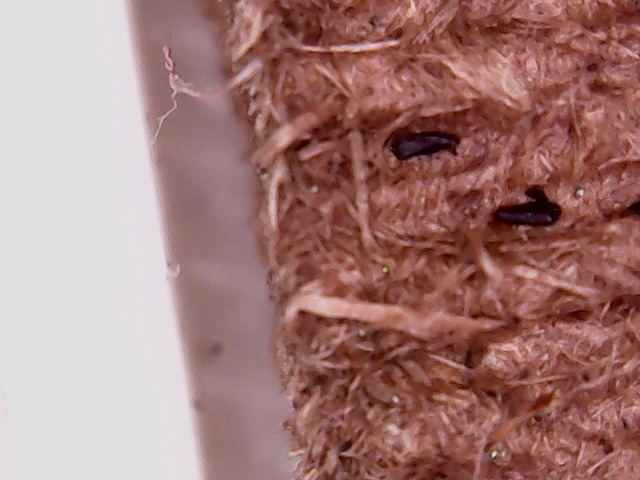full: (383, 116, 466, 170), (487, 184, 570, 236)
